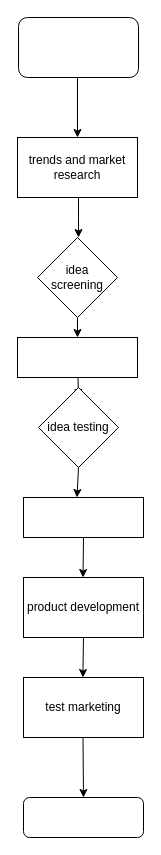
Image size: 161x855. Some labels were removed from this diagram. Each missing label, with the box of its shape:
idea prototyping: (16, 336, 138, 378)
market strategy development: (22, 496, 144, 538)
process starts: (18, 16, 138, 78)
